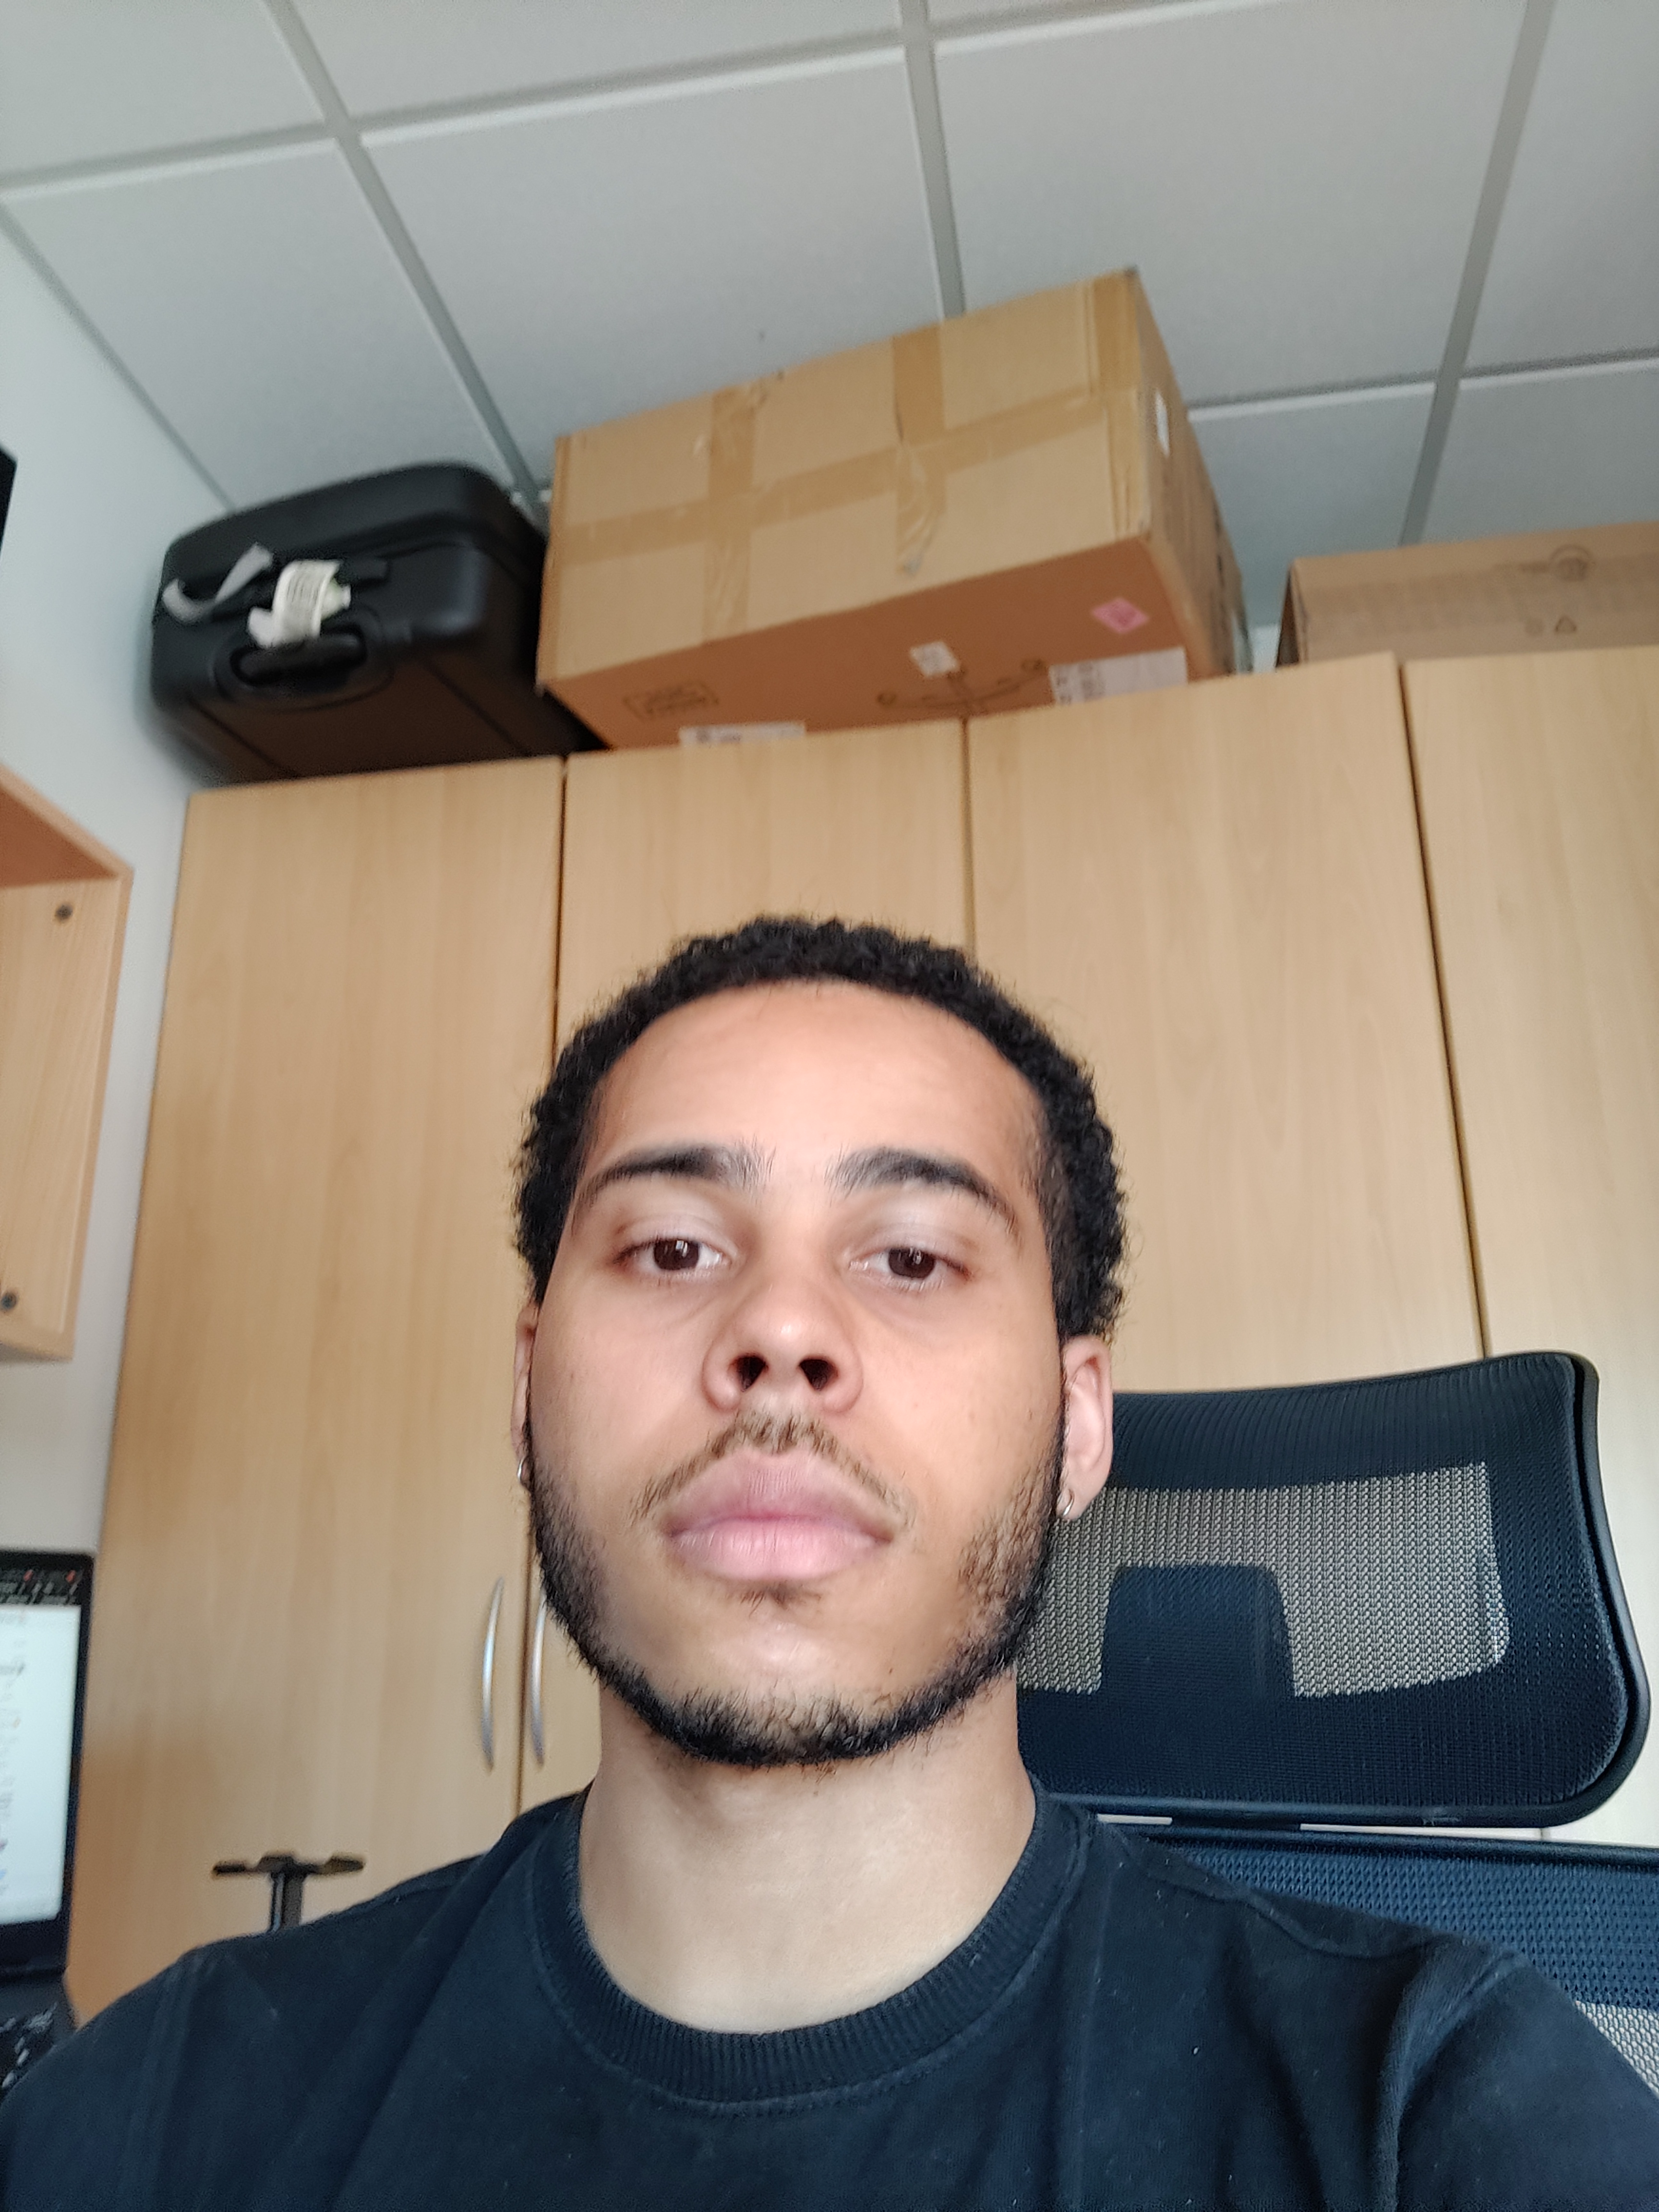nomask: (518, 1334, 1154, 1780)
